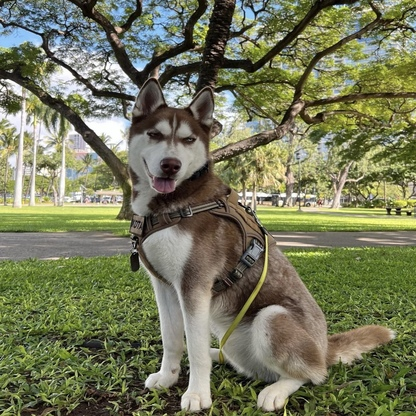husky: (118, 75, 400, 412)
